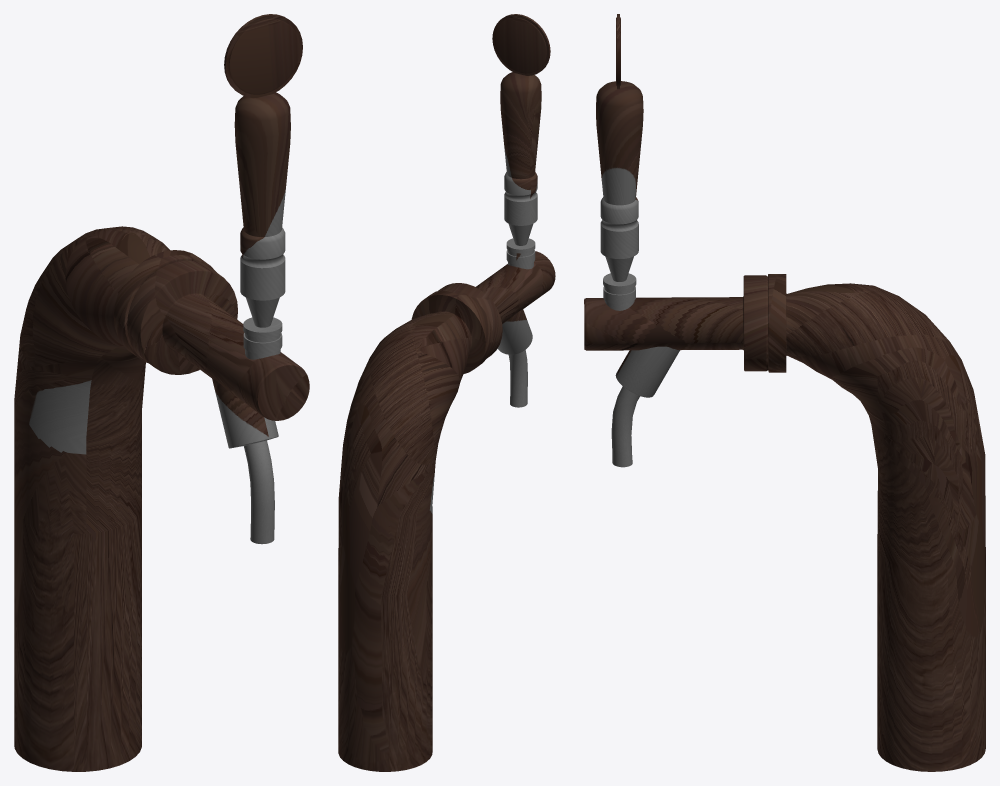
The model's file is Taps.obj.
3 views of the same model, side by side, from view 1: azimuth 30°, elevation 25°; view 2: azimuth 150°, elevation 25°; view 3: azimuth 270°, elevation 25° (orthographic). The views are drawn at different scales.
Visible parts, largest first — view 1: Cube.001_Cube.001; view 2: Cube.001_Cube.001; view 3: Cube.001_Cube.001.
Part boxes in pixels (x1,y1,x2,y2): Cube.001_Cube.001: (14, 14, 309, 771); Cube.001_Cube.001: (338, 14, 555, 771); Cube.001_Cube.001: (584, 14, 985, 771).
Size of the model in its own units: 0.6801 by 5.06 by 2.52.
